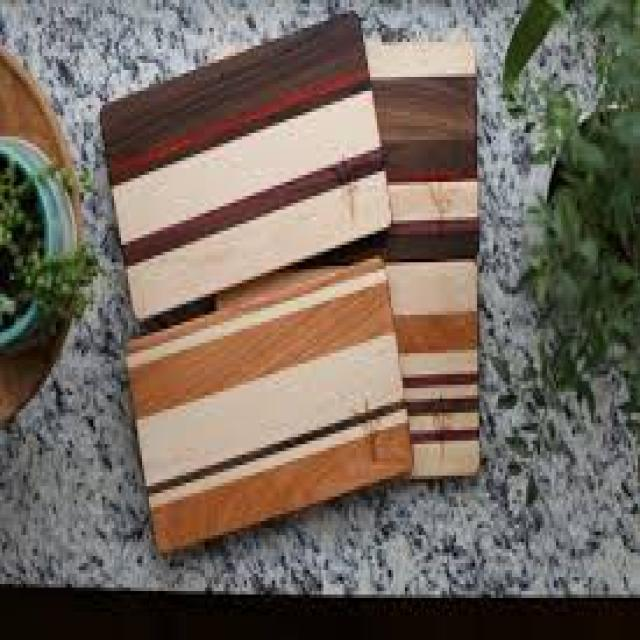Woods: (100, 14, 484, 556)
